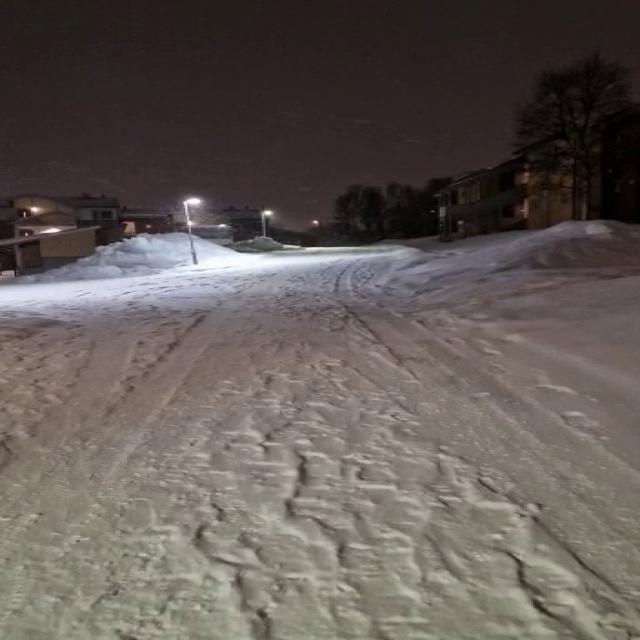path: (0, 245, 640, 640)
